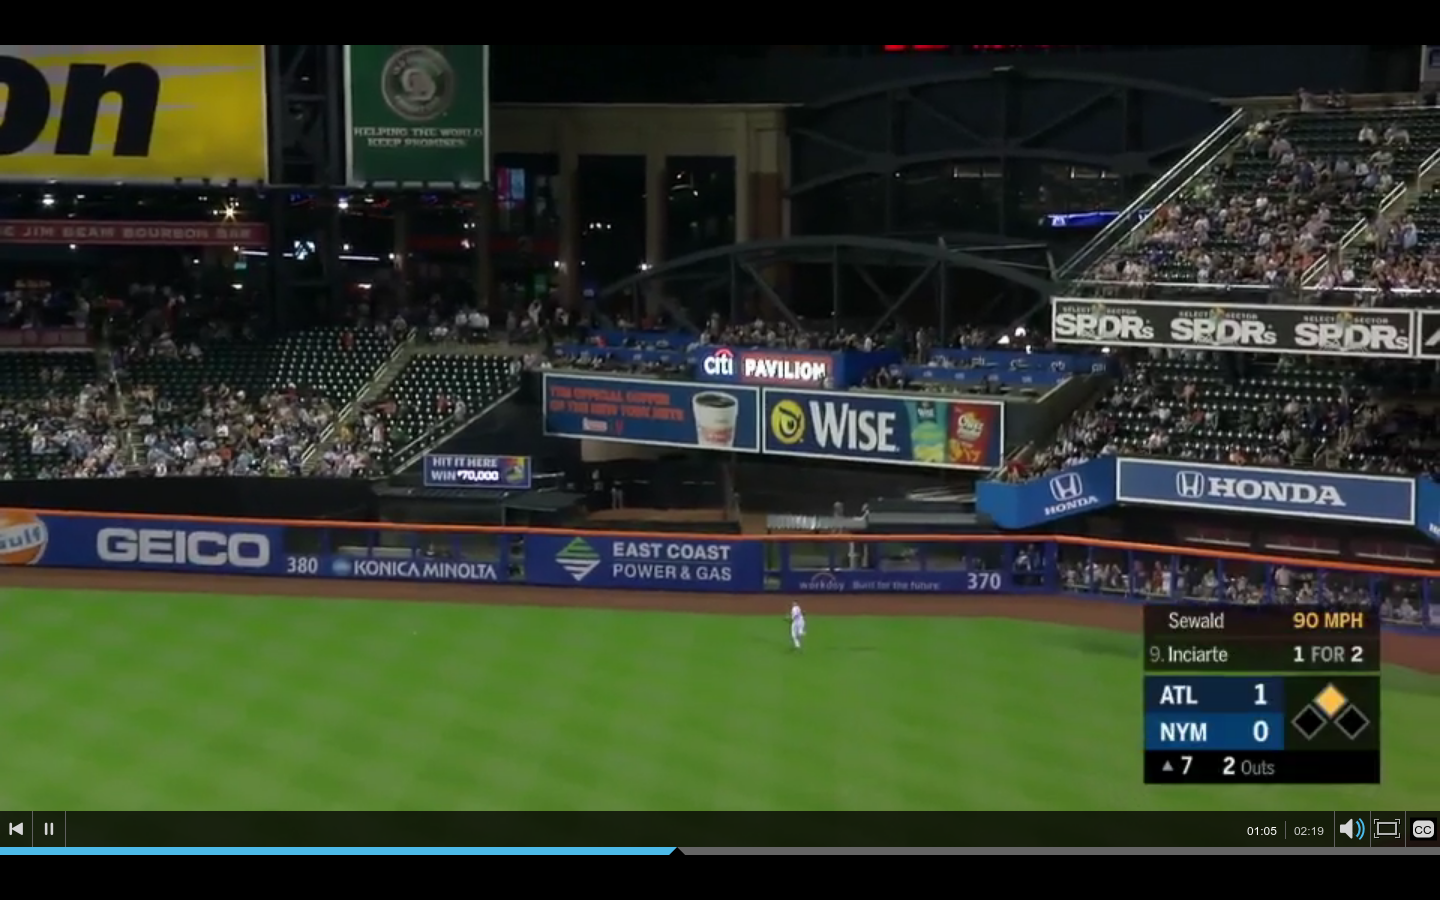baseball player: (784, 597, 812, 646)
